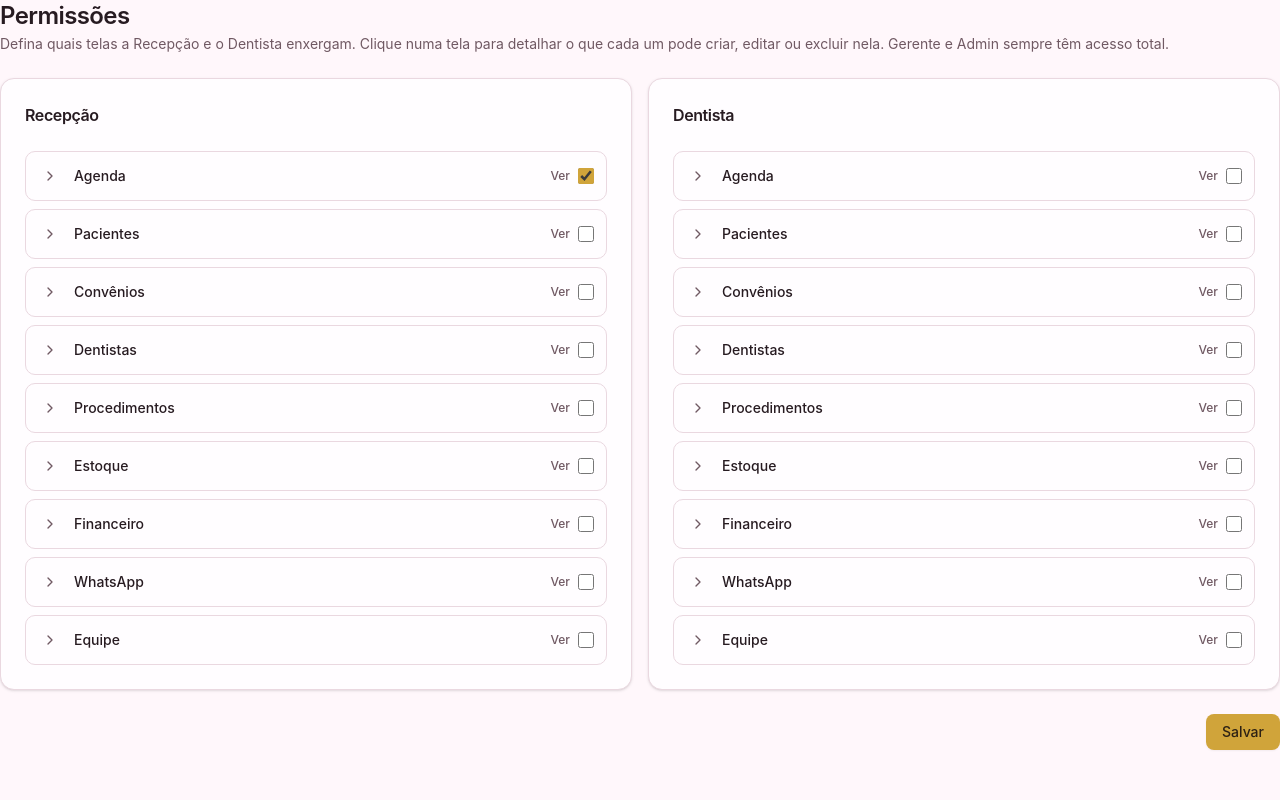
Scenario: PermissoesPage › desmarcar "Ver" desabilita e desmarca Criar/Editar/Excluir da mesma linha
The image size is (1280, 800).
Click the 1st button named "Expandir permissões de Agenda": (50, 176) x1=38 y1=164 x2=62 y2=188
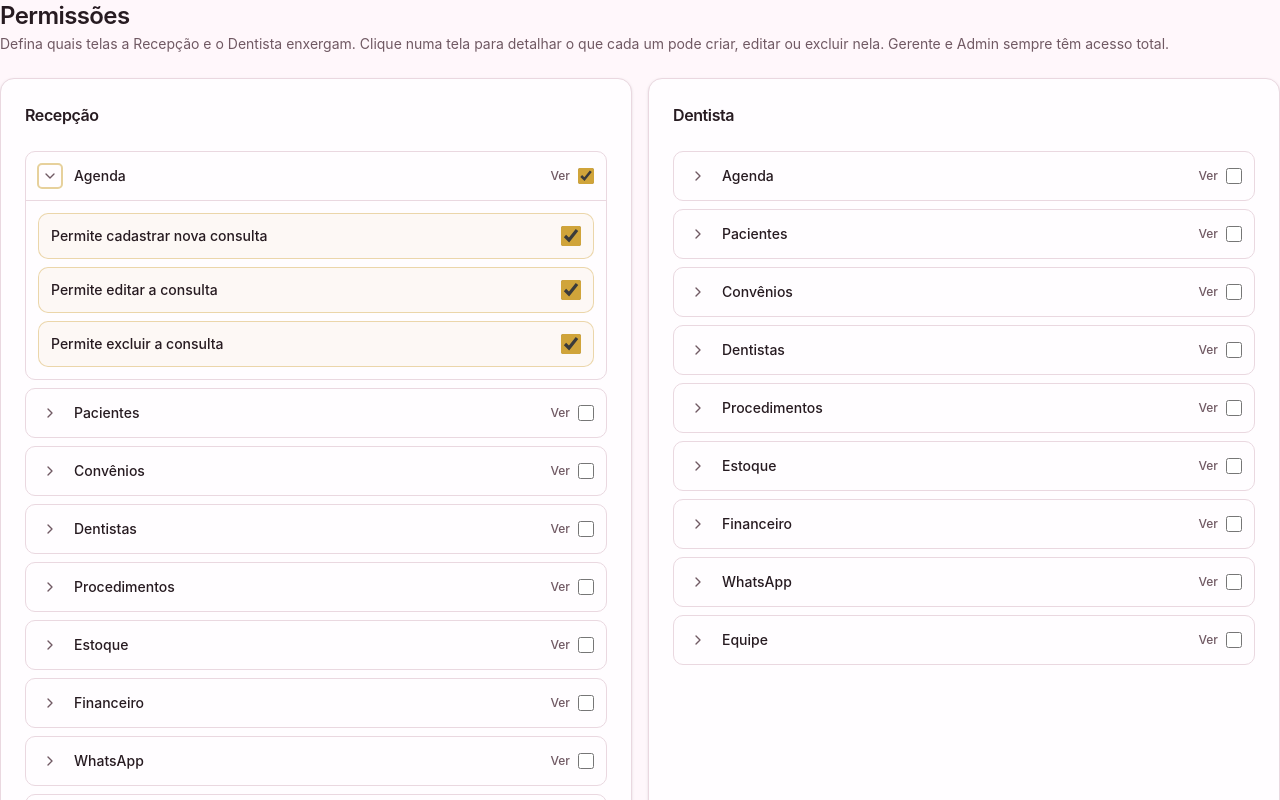
Expected: the checkbox named "Recepção — Agenda — Criar" is checked, x1=561 y1=226 x2=581 y2=246
Expected: the checkbox named "Recepção — Agenda — Criar" is enabled, x1=561 y1=226 x2=581 y2=246
Click the checkbox named "Recepção — Agenda — Ver": (586, 176) x1=578 y1=168 x2=594 y2=184
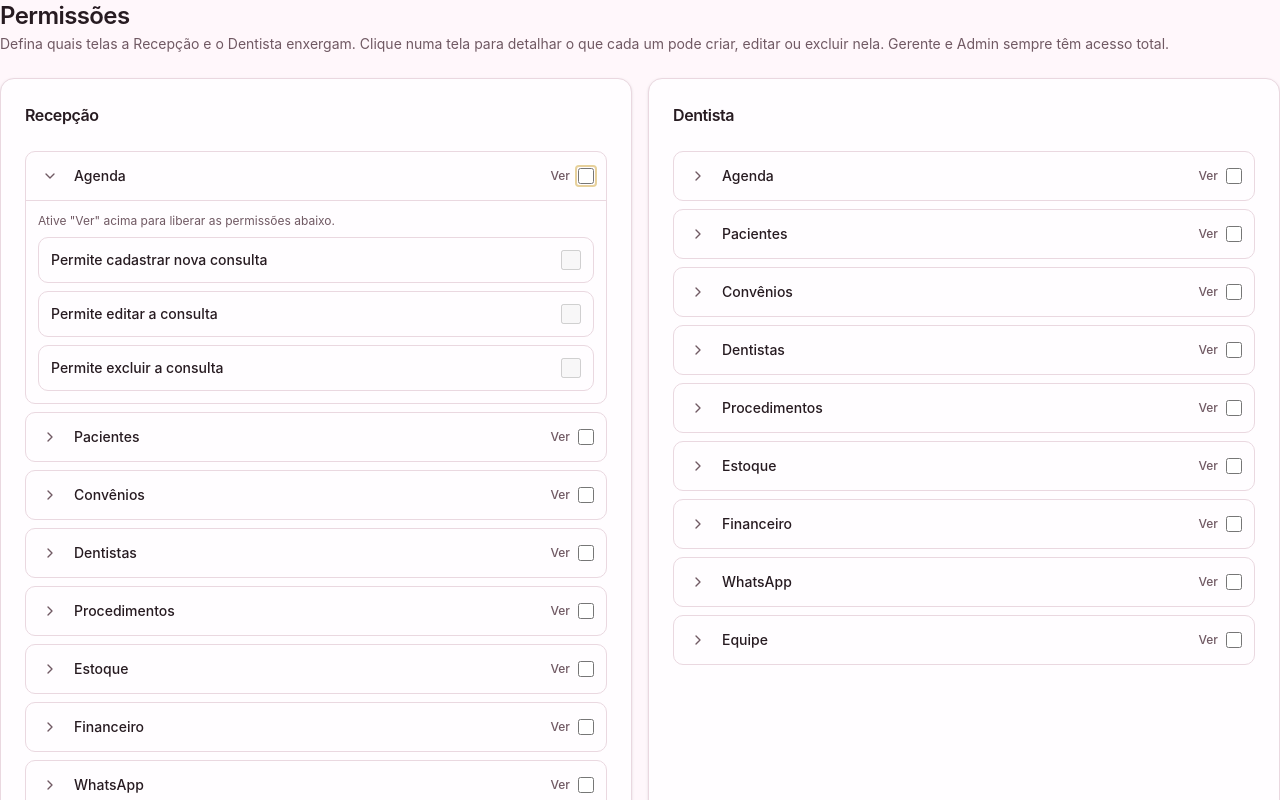
Expected: the checkbox named "Recepção — Agenda — Criar" is not checked, x1=561 y1=250 x2=581 y2=270
Expected: the checkbox named "Recepção — Agenda — Criar" is disabled, x1=561 y1=250 x2=581 y2=270
